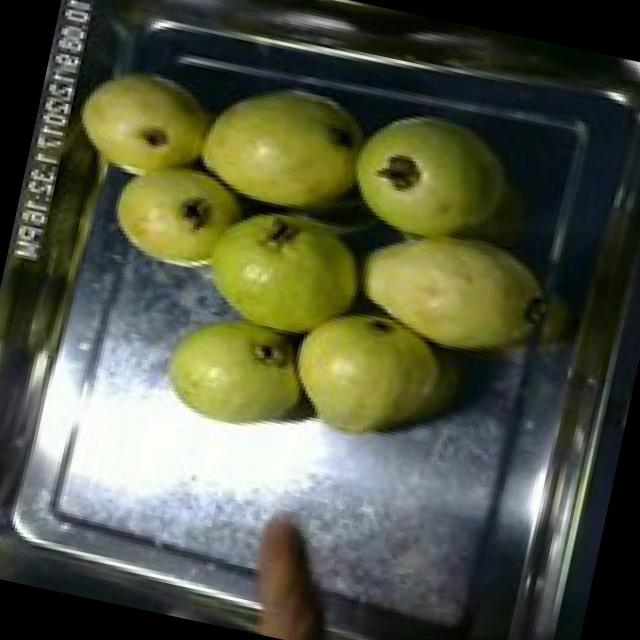Fruit: (330, 197, 560, 378), (178, 191, 394, 366), (270, 283, 470, 466), (185, 58, 402, 224), (322, 88, 525, 256), (91, 130, 278, 295), (146, 292, 328, 450), (58, 51, 226, 200)
